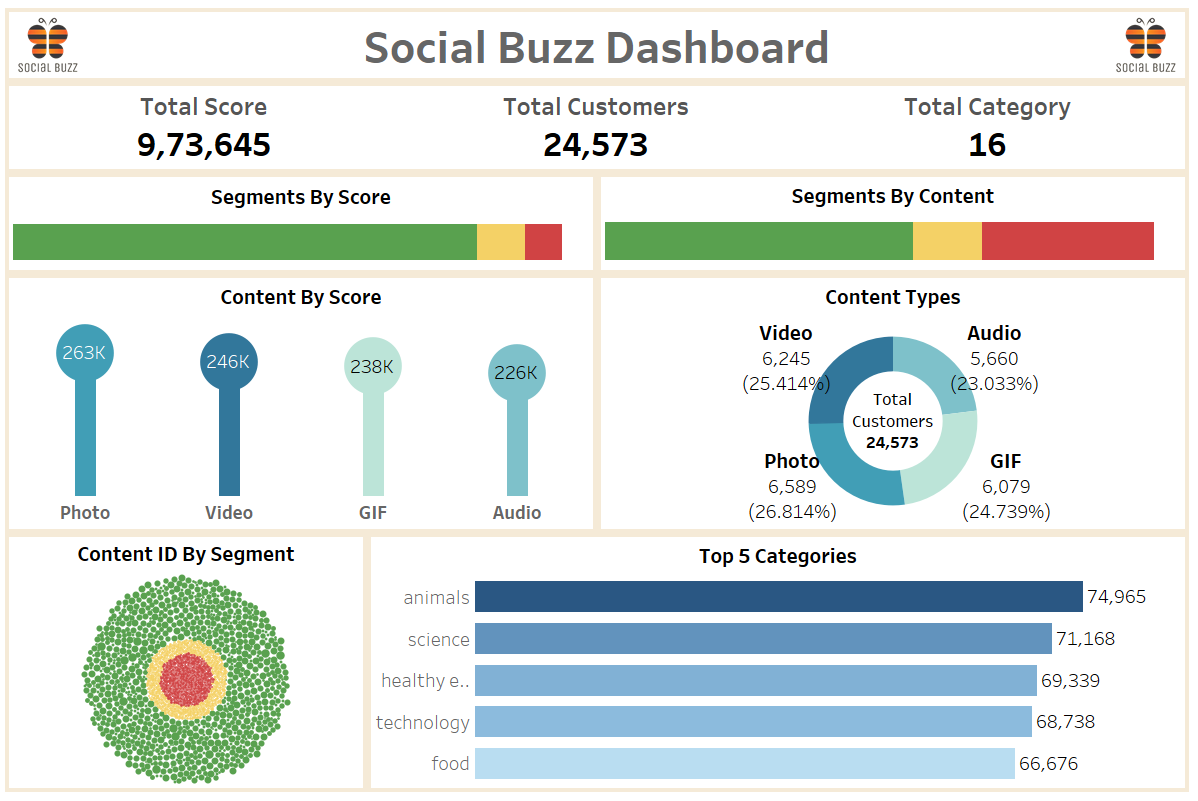

The dashboard page shown, as its layout file describes it:
{"tool":"tableau","page":{"name":"Dashboard 1","canvas":[1200,800],"ordinal":0},"visuals":[{"type":"image","param":"Image/social_buzz-removebg-preview.png","box":[12,12,78,66]},{"type":"text","box":[90,12,1020,66]},{"type":"image","param":"Image/social_buzz-removebg-preview.png","box":[1110,12,78,66]},{"type":"worksheet","title":"KPI's","mark":"Shape","cols":["Calculation_681732427481403393","Calculation_681732427481403393","Calculation_681732427481403393"],"box":[8,82,1184,91]},{"type":"text","box":[12,177,584,37]},{"type":"text","box":[604,177,584,35]},{"type":"worksheet","title":"Segment By Content","mark":"Automatic","cols":["Content & Reactions_4004A30573494E73B197E9979D80EFA6"],"box":[604,212,584,58]},{"type":"worksheet","title":"Segment By Score","mark":"Bar","cols":["Score"],"box":[12,214,584,56]},{"type":"text","box":[12,278,584,35]},{"type":"text","box":[604,278,584,35]},{"type":"worksheet","title":"Content BY Score","mark":"Automatic","rows":["Score","Score"],"cols":["Content Type"],"box":[12,313,584,216]},{"type":"worksheet","title":"Content Type","mark":"Pie","rows":["Calculation_1065664293954916354","Calculation_1065664293954916354"],"box":[604,313,584,216]},{"type":"text","box":[12,537,354,32]},{"type":"text","box":[374,537,814,35]},{"type":"worksheet","title":"Content ID By Segment","mark":"Circle","box":[12,569,354,219]},{"type":"worksheet","title":"Top 5 Categories","mark":"Automatic","rows":["Category"],"cols":["Score"],"box":[374,572,814,216]}]}

Visuals, with their boxes in screenshot pixels (x1, y1, x2, y2), scaled from the page's 1200x800 canvas onto the 1198x801 screenshot:
image: <box>12,12,90,78</box>
text: <box>90,12,1108,78</box>
image: <box>1108,12,1186,78</box>
"KPI's" worksheet (Shape marks): <box>8,82,1190,173</box>
text: <box>12,177,595,214</box>
text: <box>603,177,1186,212</box>
"Segment By Content" worksheet: <box>603,212,1186,270</box>
"Segment By Score" worksheet (Bar marks): <box>12,214,595,270</box>
text: <box>12,278,595,313</box>
text: <box>603,278,1186,313</box>
"Content BY Score" worksheet: <box>12,313,595,530</box>
"Content Type" worksheet (Pie marks): <box>603,313,1186,530</box>
text: <box>12,538,365,570</box>
text: <box>373,538,1186,573</box>
"Content ID By Segment" worksheet (Circle marks): <box>12,570,365,789</box>
"Top 5 Categories" worksheet: <box>373,573,1186,789</box>
